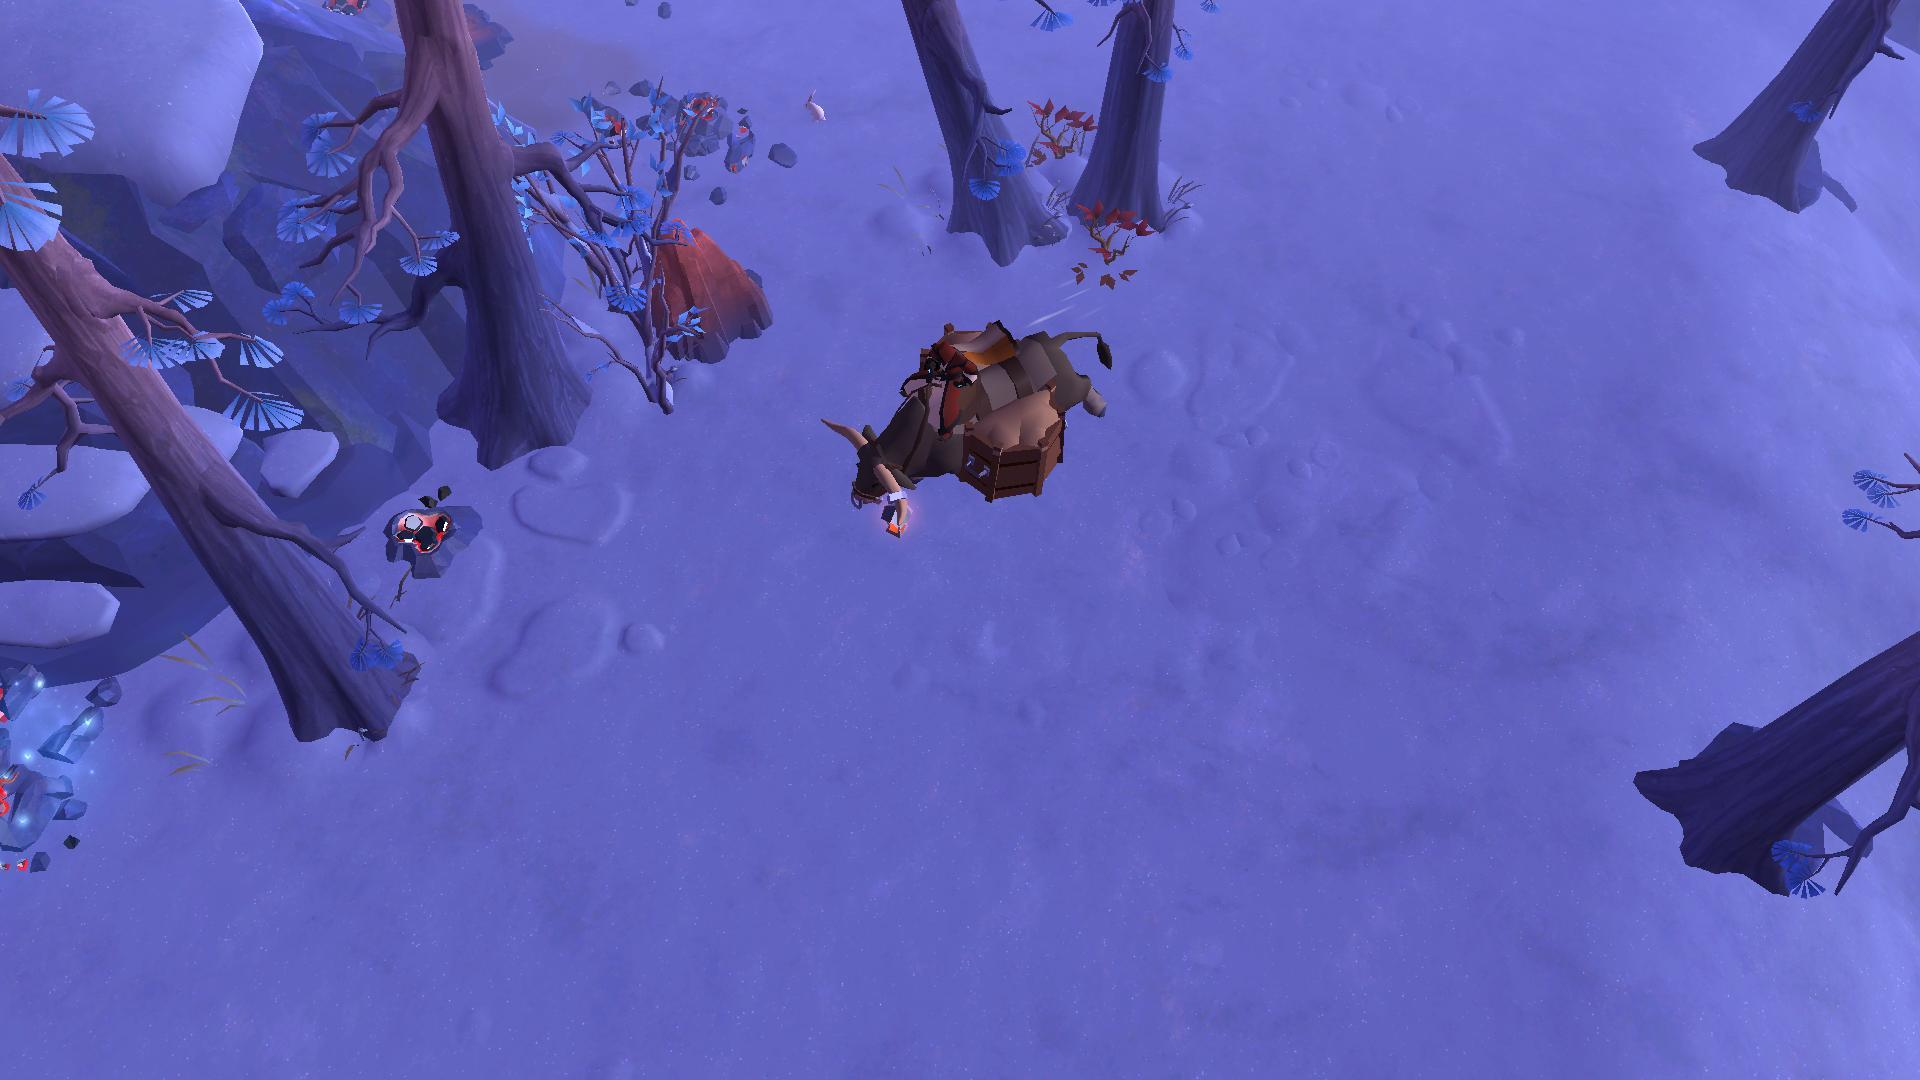rock_t5: (636, 215, 771, 364)
